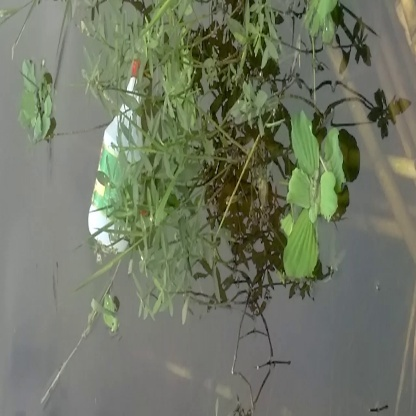bottle: (83, 56, 162, 256)
leaf: (278, 120, 355, 281)
